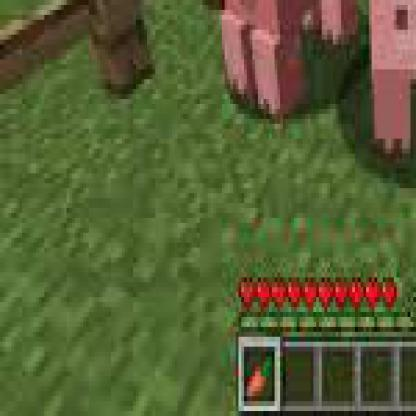minecraft-pigs: (194, 0, 380, 134), (364, 0, 414, 183)
